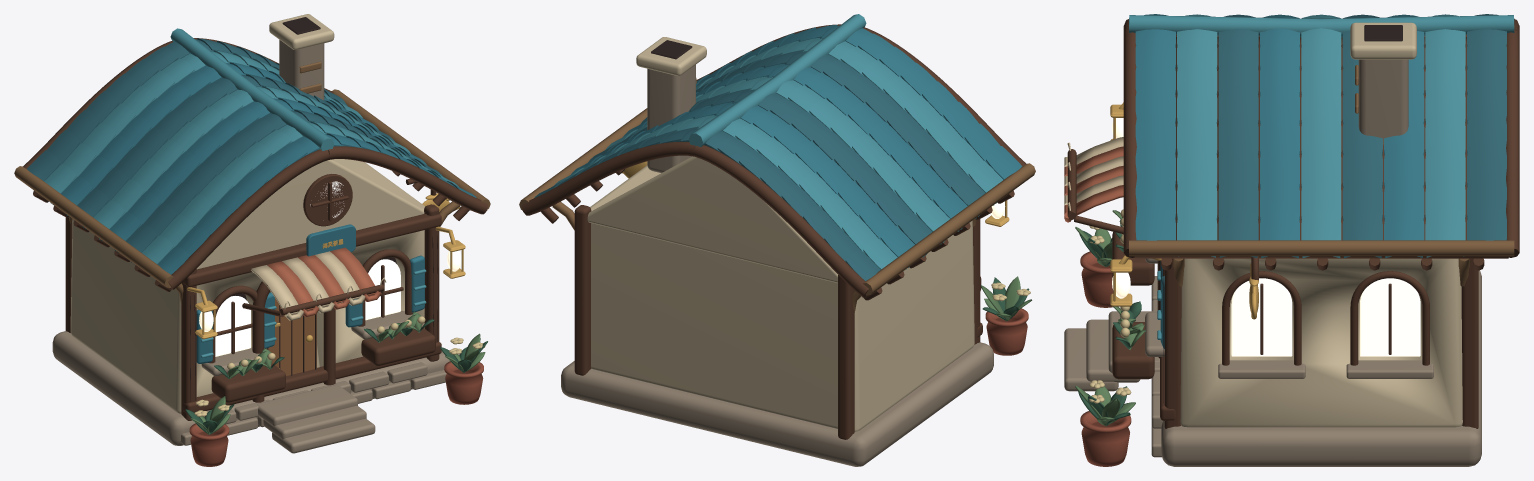
Rendered from harbor_tea_house_atelier.glb.
The picture shows the model from 3 angles, left to right: view 1: azimuth 30°, elevation 25°; view 2: azimuth 150°, elevation 25°; view 3: azimuth 270°, elevation 25°; orthographic projection. The views are drawn at different scales.
Visible parts, largest first — view 1: harbor_tea_house_atelier__TaggedPainted_TeaHouse_Matte, harbor_tea_house_atelier__Painted_TeaHouse_Glaze, harbor_tea_house_atelier__Painted_TeaHouse_Glow, harbor_tea_house_atelier__Painted_TeaHouse_Metal; view 2: harbor_tea_house_atelier__TaggedPainted_TeaHouse_Matte, harbor_tea_house_atelier__Painted_TeaHouse_Glaze; view 3: harbor_tea_house_atelier__TaggedPainted_TeaHouse_Matte, harbor_tea_house_atelier__Painted_TeaHouse_Glaze, harbor_tea_house_atelier__Painted_TeaHouse_Glow, harbor_tea_house_atelier__Painted_TeaHouse_Metal.
Part boxes in pixels (x1,y1,x2,y2): harbor_tea_house_atelier__TaggedPainted_TeaHouse_Matte: (14,14,490,466); harbor_tea_house_atelier__Painted_TeaHouse_Glaze: (27,28,476,363); harbor_tea_house_atelier__Painted_TeaHouse_Glow: (199,181,461,356); harbor_tea_house_atelier__Painted_TeaHouse_Metal: (186,193,465,368); harbor_tea_house_atelier__TaggedPainted_TeaHouse_Matte: (519,24,1035,466); harbor_tea_house_atelier__Painted_TeaHouse_Glaze: (534,14,1022,280); harbor_tea_house_atelier__TaggedPainted_TeaHouse_Matte: (1064,19,1519,466); harbor_tea_house_atelier__Painted_TeaHouse_Glaze: (1129,14,1514,348); harbor_tea_house_atelier__Painted_TeaHouse_Glow: (1112,118,1420,356); harbor_tea_house_atelier__Painted_TeaHouse_Metal: (1110,102,1258,319).
Size of the model in its own units: 4.6 by 3.96 by 4.11.
